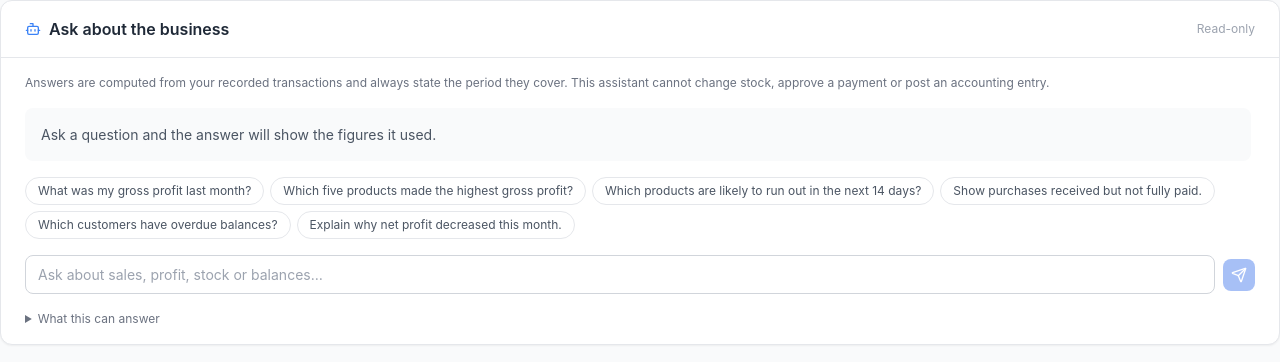
AssistantPanel › asks for clarification instead of guessing
Click the button "What was my gross profit last month?" at (145, 191), box left=25, top=177, right=264, bottom=205
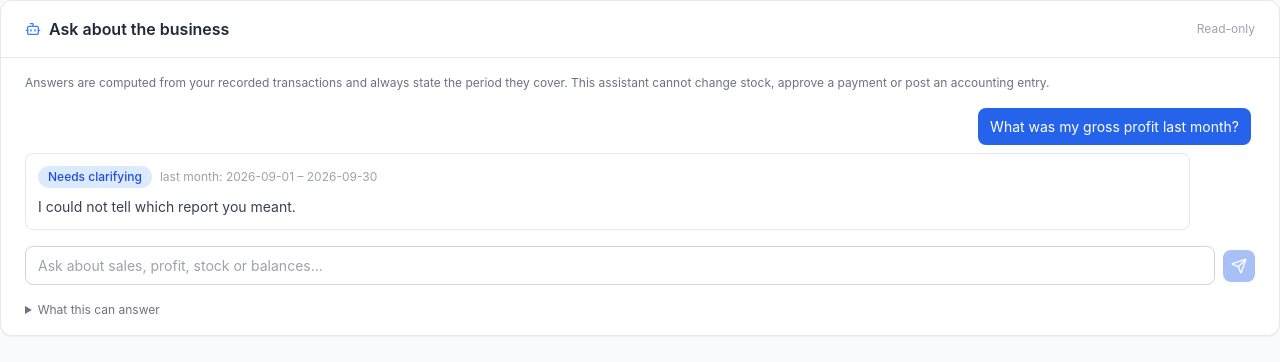
Expected: the text "Needs clarifying" is shown, left=38, top=166, right=152, bottom=188
Expected: the text "I could not tell which report you meant." is shown, left=38, top=198, right=296, bottom=215
